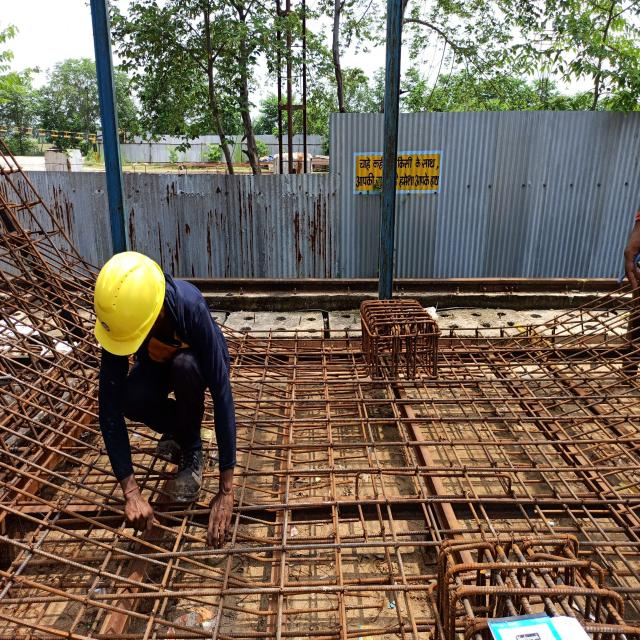Hardhat: (85, 258, 170, 364)
No-safetyvest: (142, 277, 225, 398)
Person: (88, 246, 245, 538)
